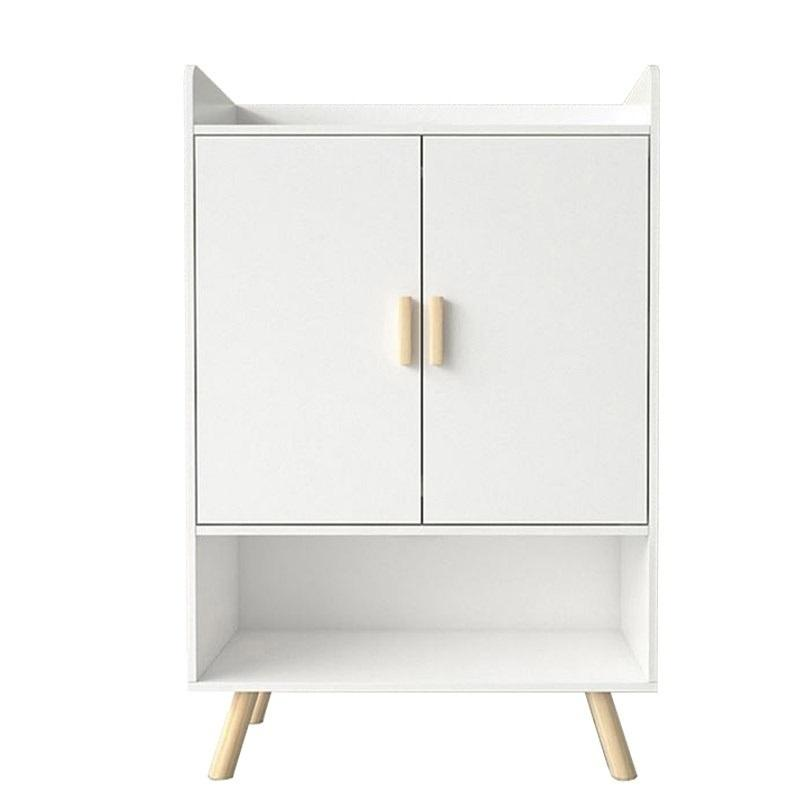cabinet_door: (203, 138, 427, 527), (427, 139, 649, 525)
handle: (395, 294, 417, 371), (430, 293, 450, 371)
